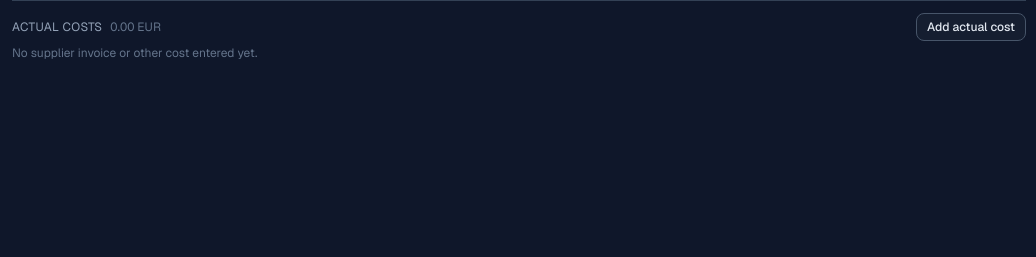
ActualCostsPanel currency marks › still refuses an ambiguous number behind a mark
Click the button with test id "actual-cost-open". click: click(971, 27)
box: x1=916 y1=13 x2=1026 y2=41
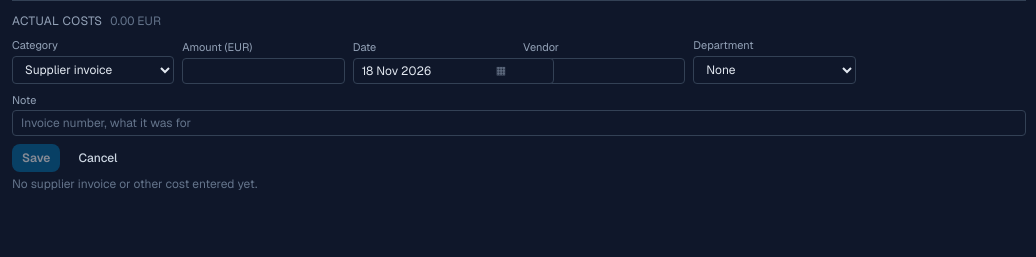
Type "12,5 EUR" into the field labelled "Amount". click: (263, 70)
box: x1=182 y1=58 x2=345 y2=84
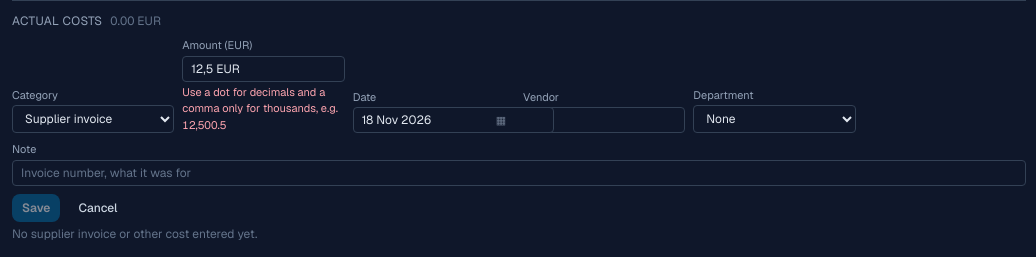
expect the button with test id "actual-cost-save" is disabled: met, box x1=12 y1=194 x2=60 y2=222
expect the text with test id "actual-cost-amount-hint" is shown: met, box x1=182 y1=84 x2=345 y2=133
